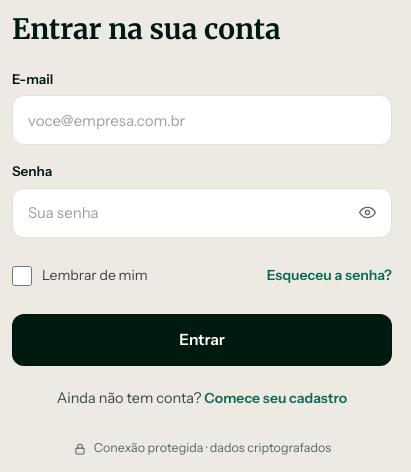
Test: LoginForm — two-step login › switches to a recovery code when asked
Type "admin@empresa.com.br" into the field labelled "E-mail". click: (202, 120)
box: [12,95,392,145]
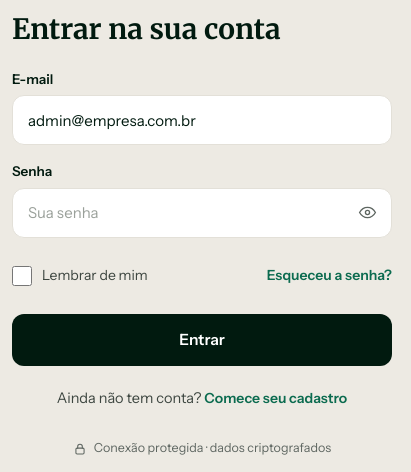
Type "s3nh4-valida" into the password field labelled "Senha". click: (202, 212)
box: [12,188,392,238]
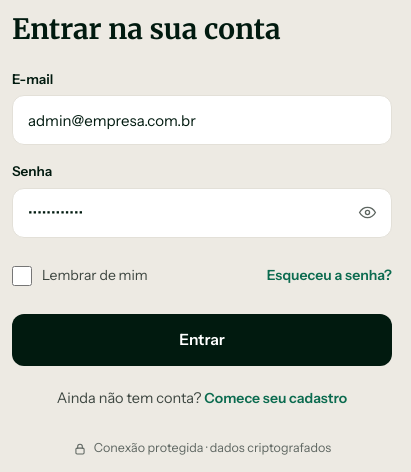
Click the button "Entrar". click: (202, 340)
box: [12,314,392,366]
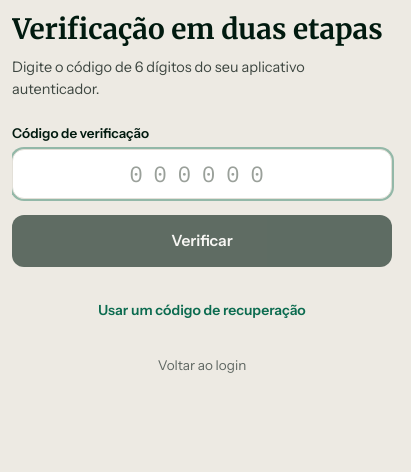
Check: the heading "Verificação em duas etapas" is shown, box [12,12,392,47]
Click the button "Usar um código de recuperação". click: (202, 311)
box: [12,289,392,333]
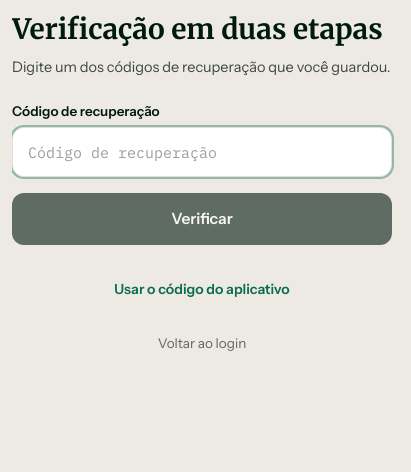
Check: the field labelled "Código de recuperação" is shown, box [12,127,392,177]
